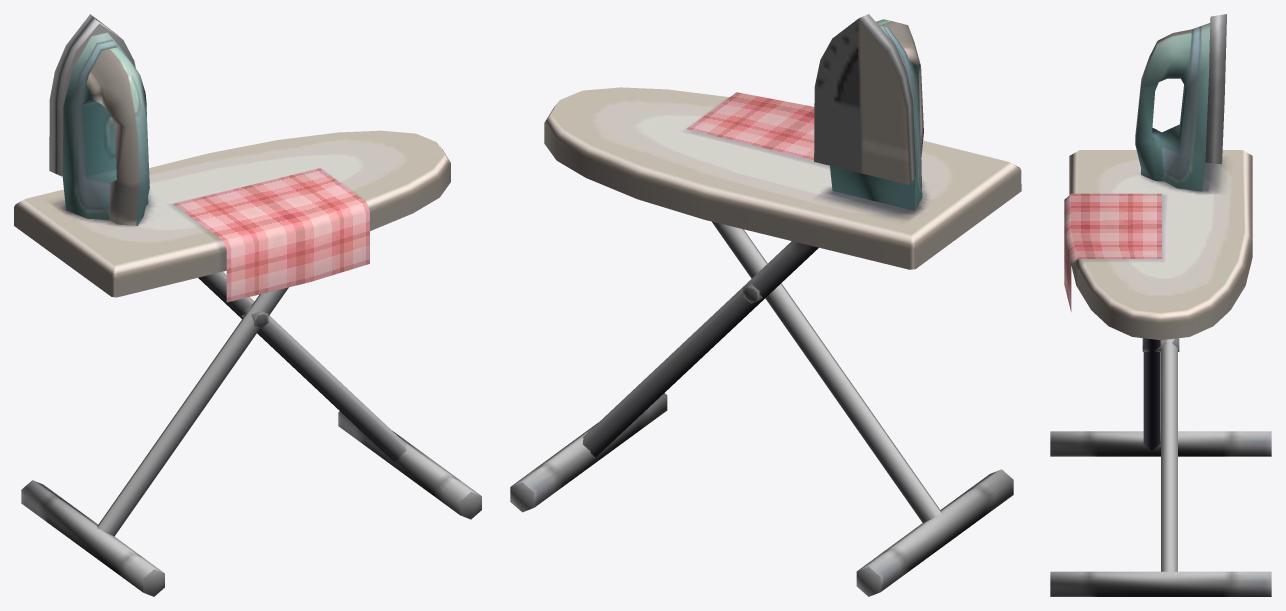
The model's file is rmk_oth_iron.dae.
3 renders of one model, left to right at view 1: azimuth 30°, elevation 25°; view 2: azimuth 150°, elevation 25°; view 3: azimuth 270°, elevation 25°, orthographic. The views are drawn at different scales.
Parts seen in each view (by area): view 1: rmk_oth_iron; view 2: rmk_oth_iron; view 3: rmk_oth_iron.
Boxes of the visible parts, bbox=[...] form: rmk_oth_iron: bbox=[14, 14, 481, 596]; rmk_oth_iron: bbox=[510, 14, 1021, 596]; rmk_oth_iron: bbox=[1050, 14, 1271, 596].
Bounding box in the file's own units: 28.64 × 36.28 × 15.9.
2 materials, 2 textured.
